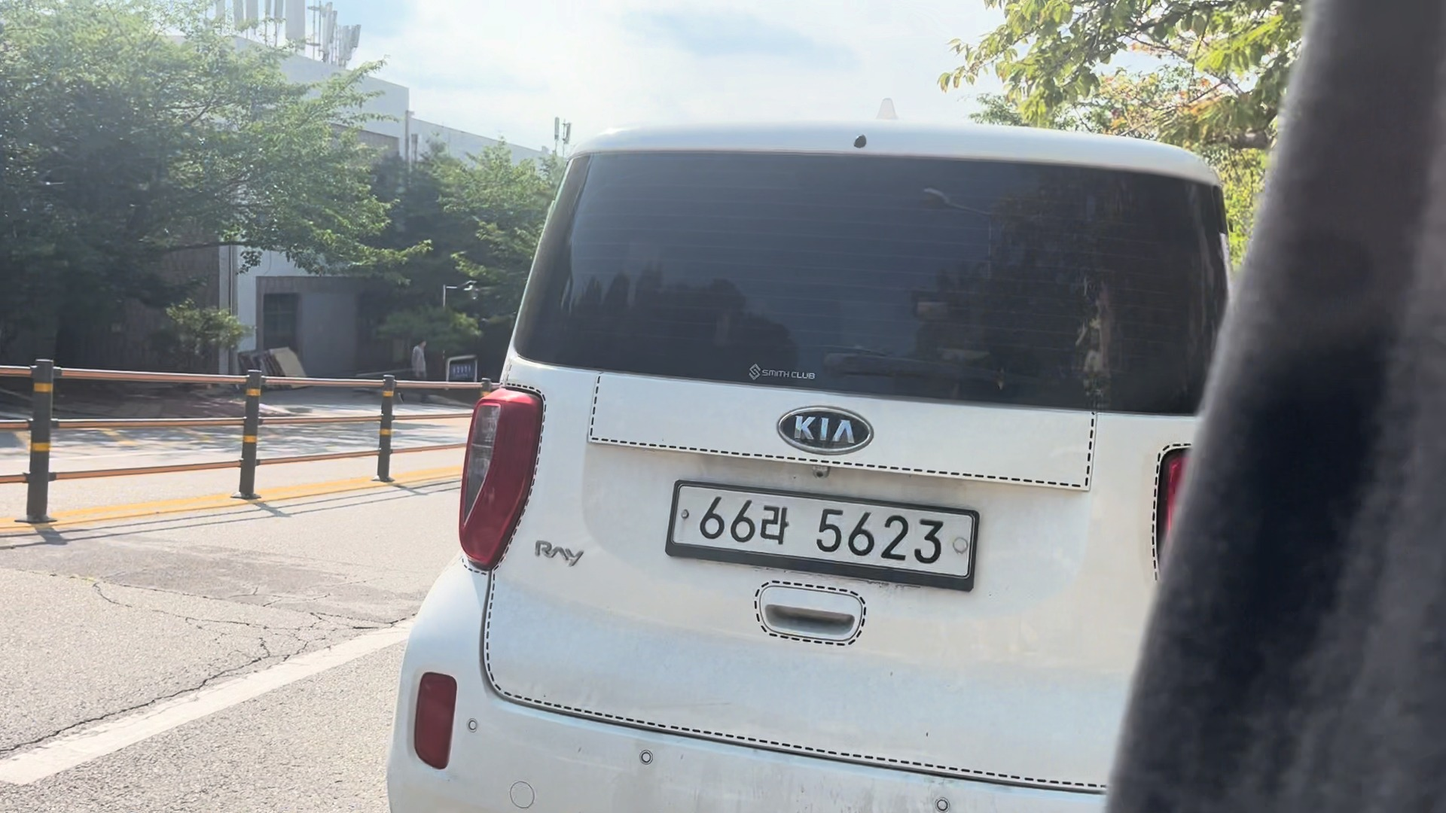car_emblem: (776, 406, 871, 458)
license_plate: (667, 483, 978, 589)
tail_light: (459, 389, 541, 568), (413, 672, 456, 769), (1155, 449, 1187, 562)
